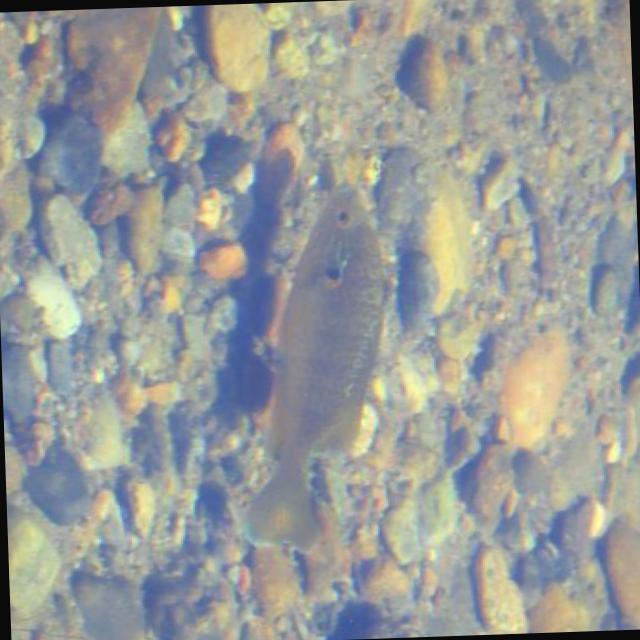Gunes Levregi: (221, 172, 398, 551)
